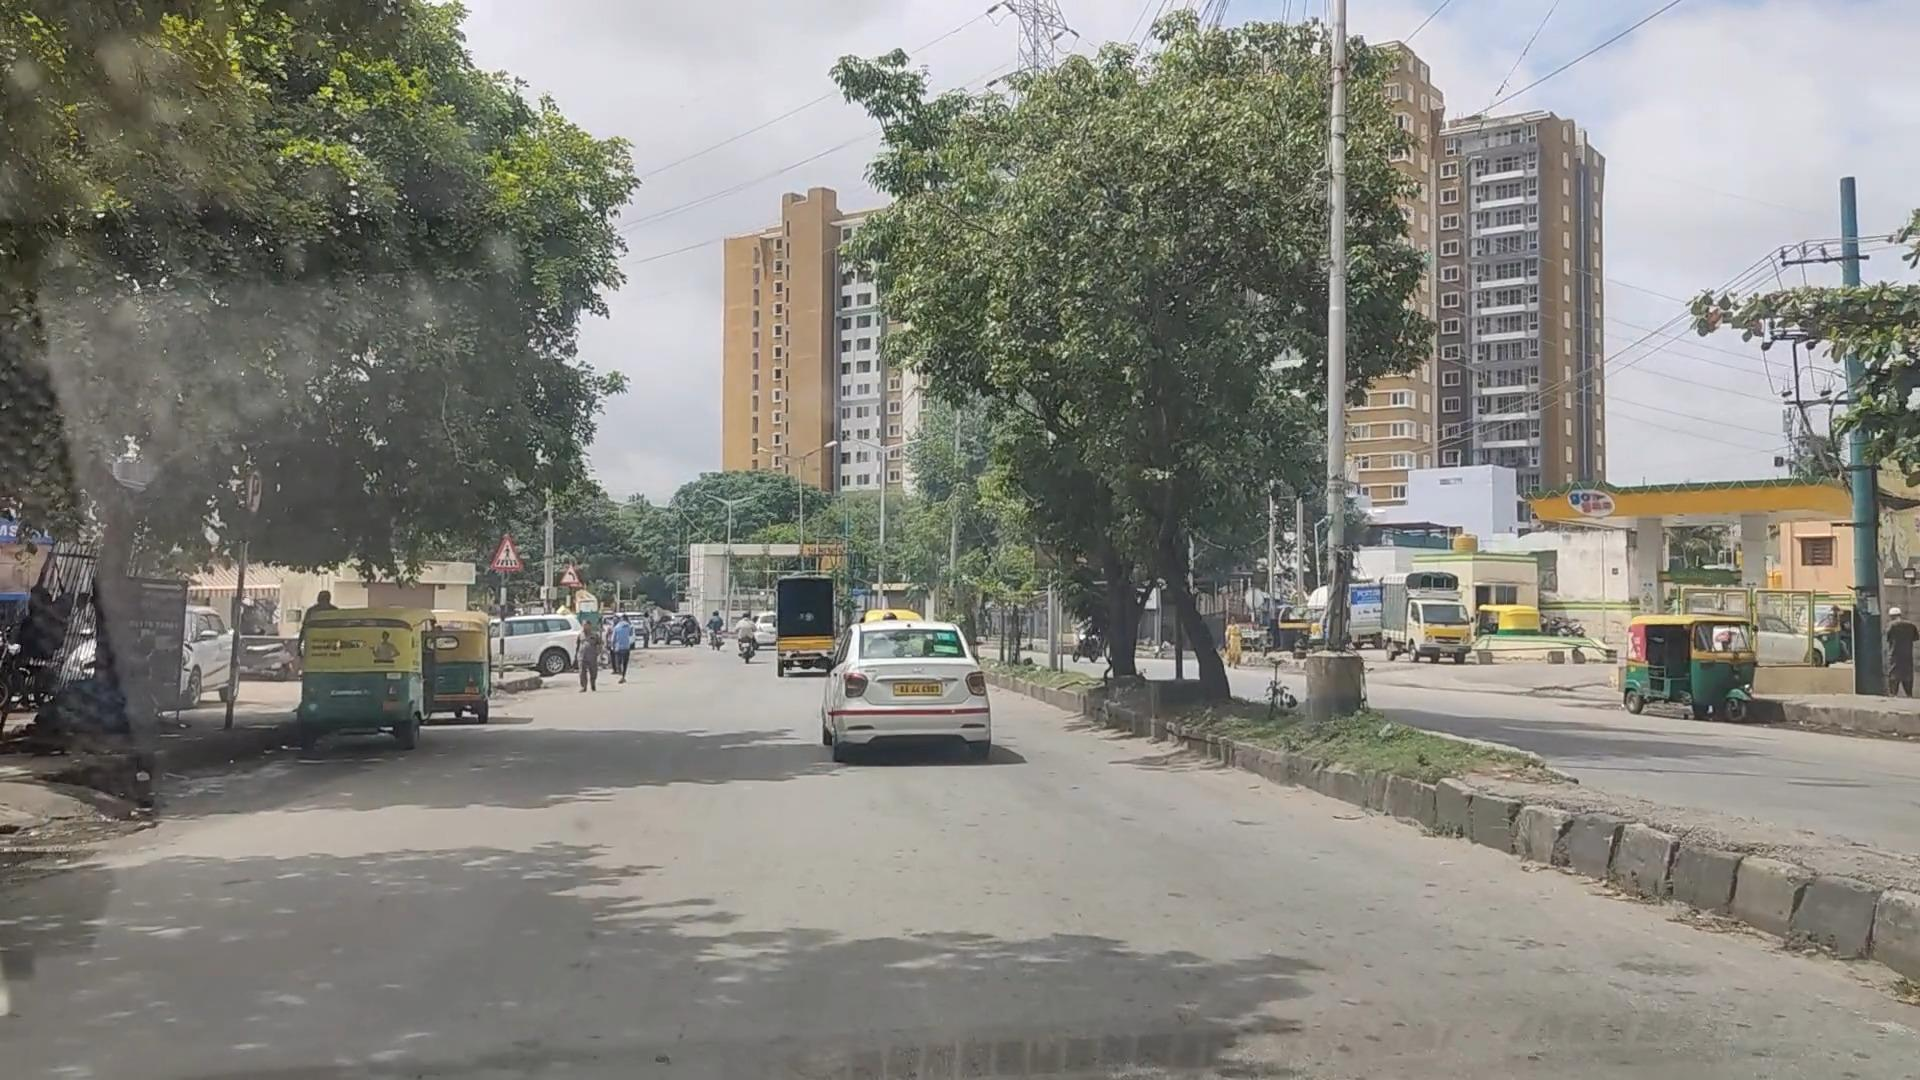LMV: (827, 611, 996, 756), (301, 608, 435, 725)
